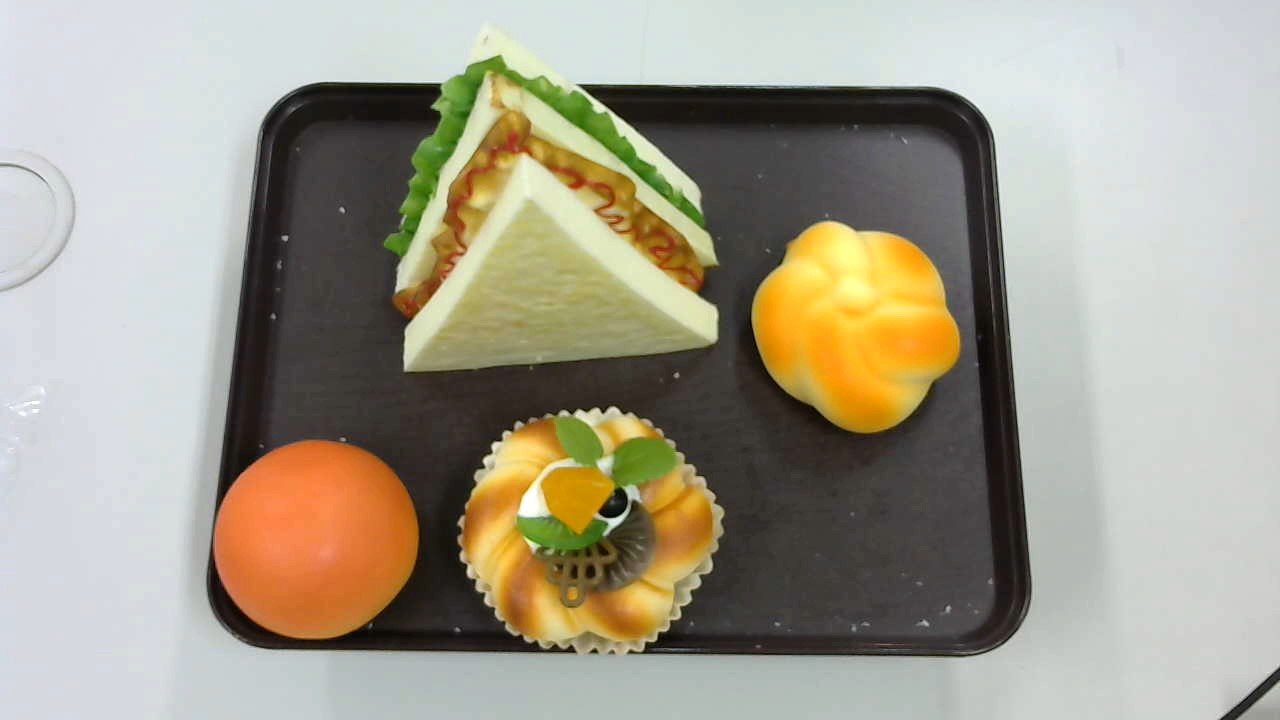bun: (213, 439, 418, 642)
fruit tart: (456, 406, 727, 658)
sandwich: (384, 19, 720, 374)
twist bread: (750, 220, 959, 432)
